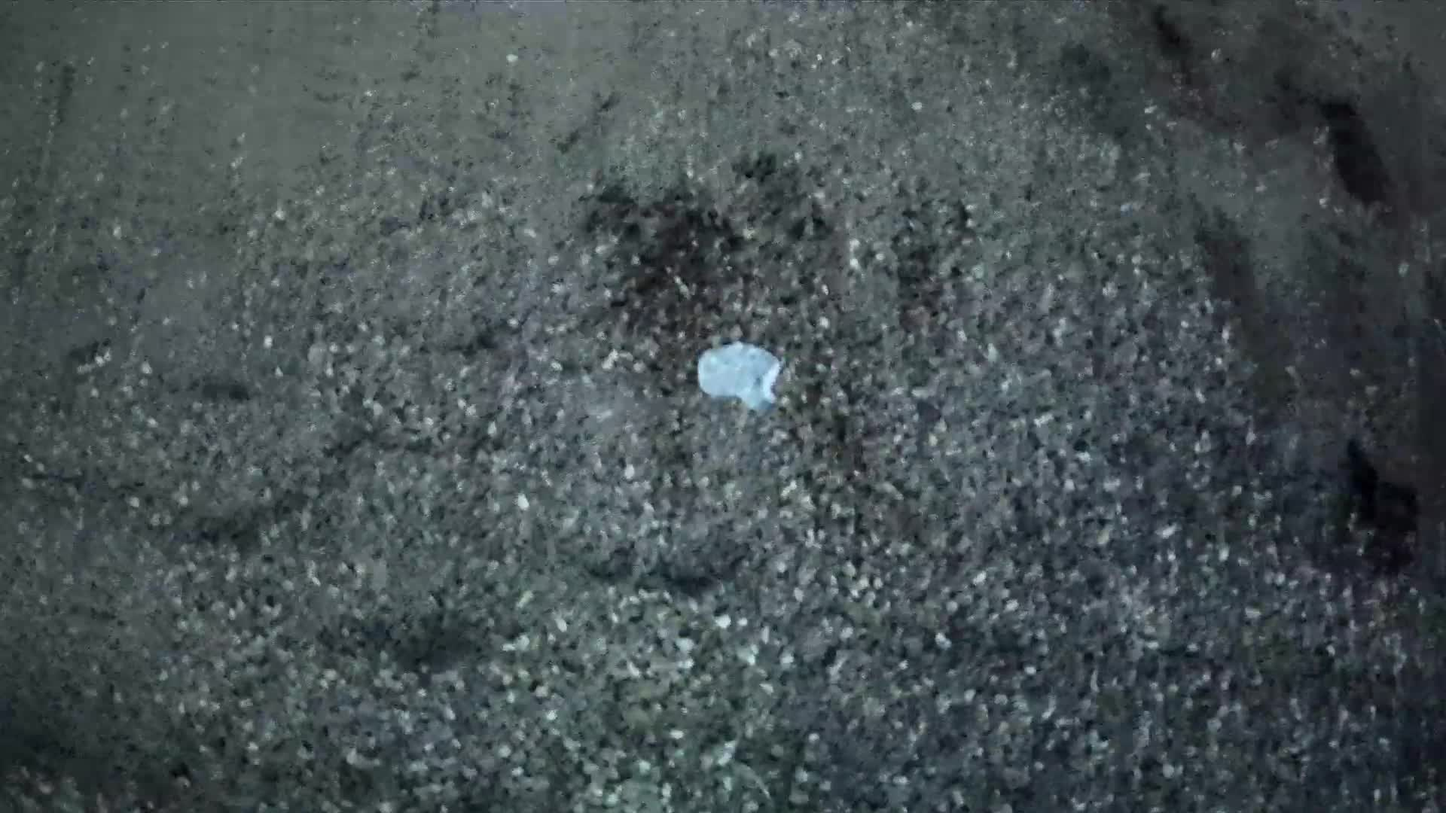Target: (692, 338, 786, 412)
